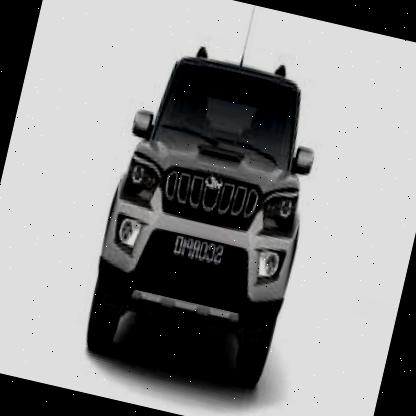car: (68, 29, 346, 402)
